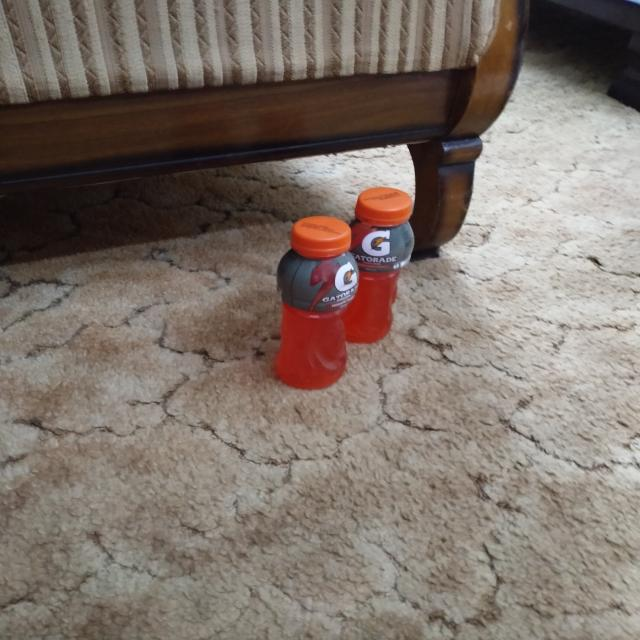Plastic: (274, 212, 356, 388), (356, 186, 414, 344)
